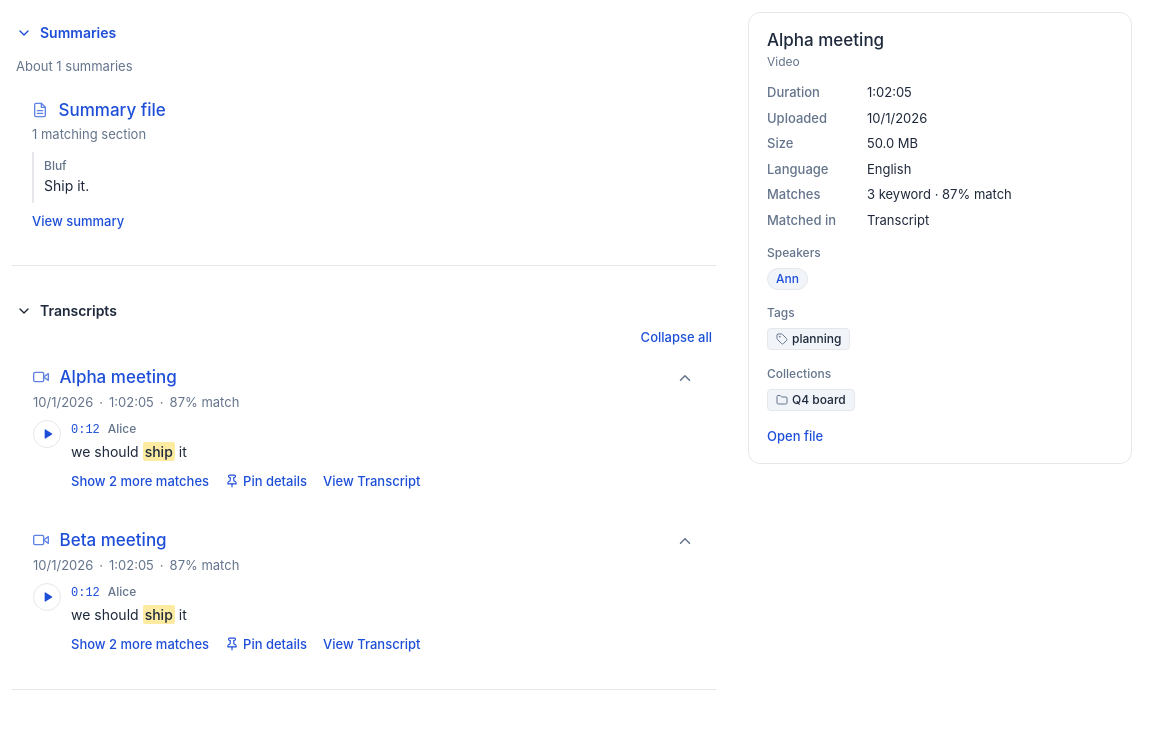
Scenario: SearchResultsBody — collapsible sections › collapsing Summaries hides its hits and leaves the transcript hits
What coordinates should you click on to do the following:
click the button "Summaries"
I would click on:
 (78, 32)
Its box is [12,12,716,53].
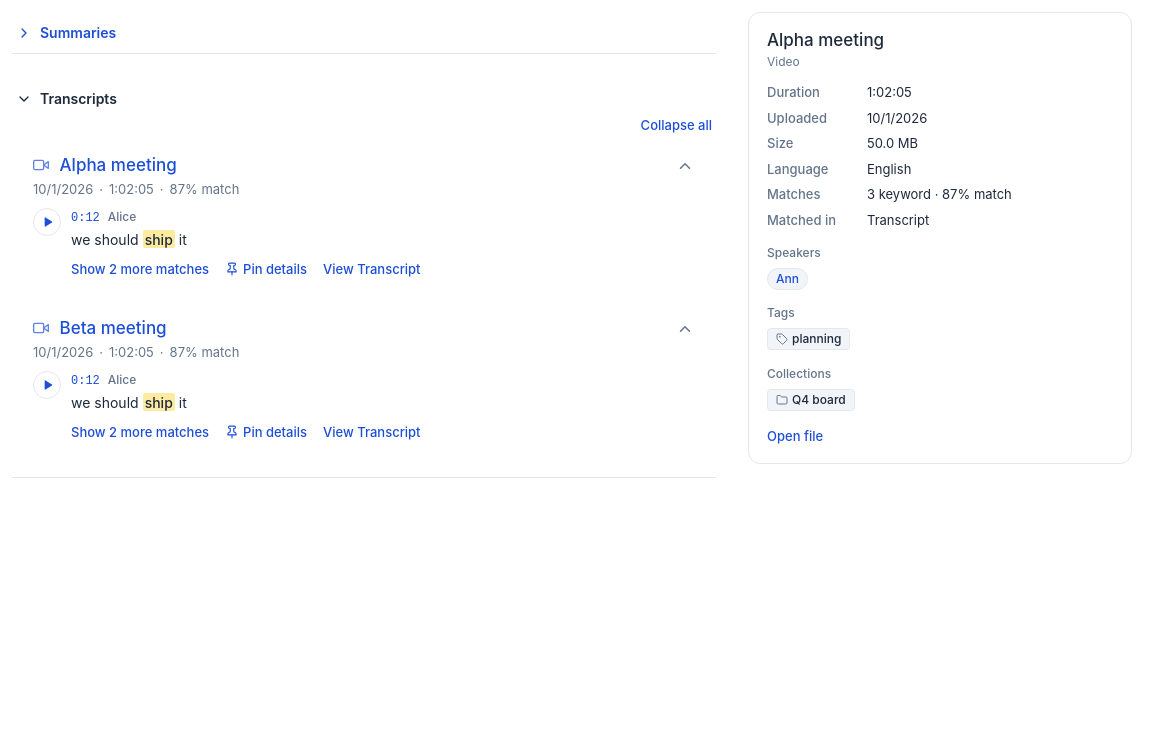
expect the number of elements with class "result-card" is 2: met, box [16,139,712,294]; [16,302,712,457]
expect the button "Summaries" is collapsed: met, box [12,12,716,53]
expect the link "Summary file" is gone: met
